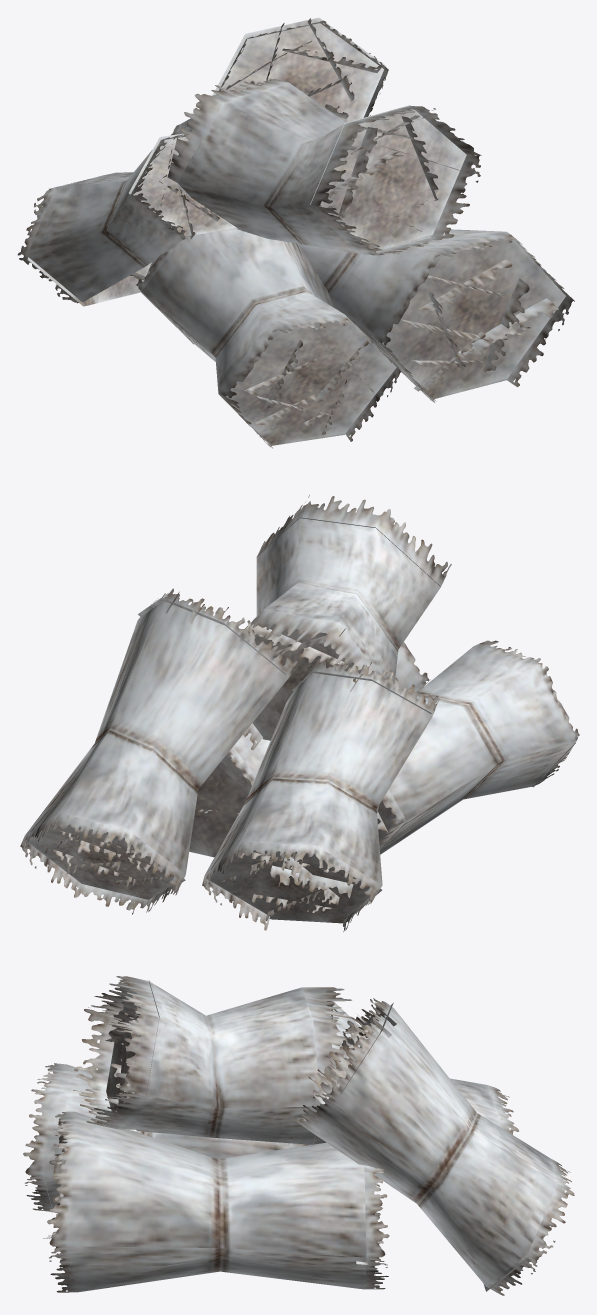
The model's file is Item_02.FBX.
The picture shows the model from 3 angles, top to bottom: view 1: azimuth 30°, elevation 25°; view 2: azimuth 150°, elevation 25°; view 3: azimuth 270°, elevation 25°; orthographic projection. The views are drawn at different scales.
Visible parts, largest first — view 1: item_02; view 2: item_02; view 3: item_02.
Boxes of the visible parts, x1=… form: item_02: x1=17, y1=17, x2=574, y2=448; item_02: x1=20, y1=495, x2=579, y2=931; item_02: x1=23, y1=976, x2=574, y2=1295.
Bounding box in the file's own units: 159 × 128 × 234.
